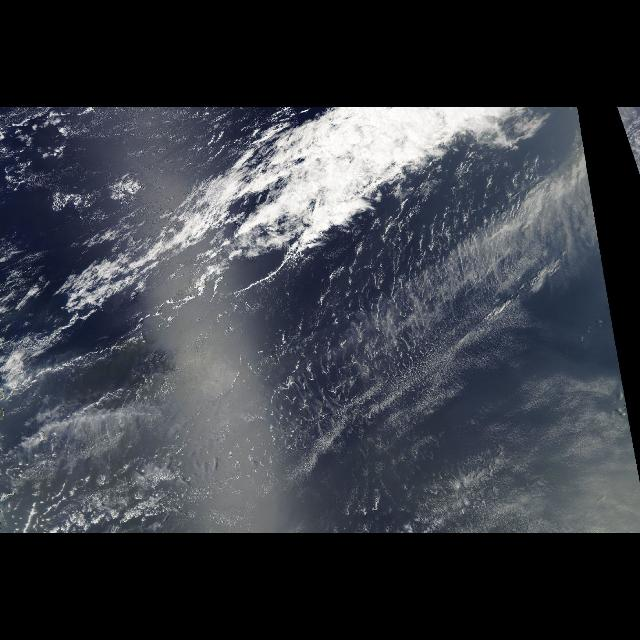Fish: (31, 107, 546, 357)
Sugar: (258, 155, 640, 532)
